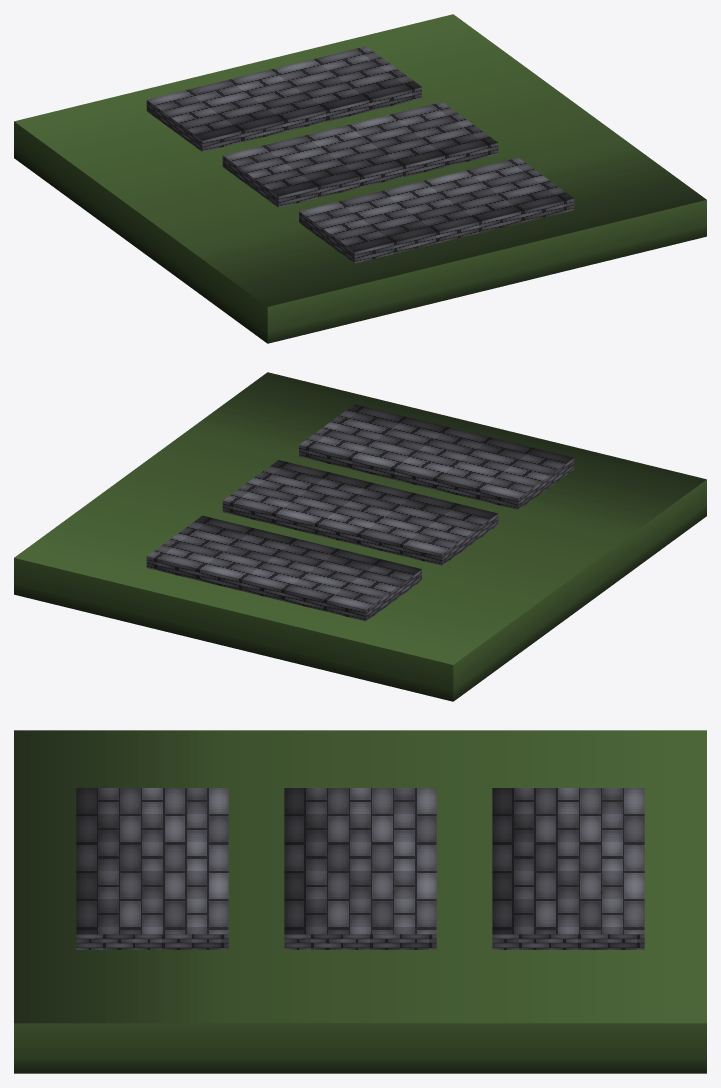
Rendered from path_straight.gltf.
3 renders of one model, top to bottom at view 1: azimuth 30°, elevation 25°; view 2: azimuth 150°, elevation 25°; view 3: azimuth 270°, elevation 25°, orthographic. The views are drawn at different scales.
Visible parts, largest first — view 1: path_straight; view 2: path_straight; view 3: path_straight.
Boxes of the visible parts, box(x1,y1,x2,y2) form: path_straight: box(14, 14, 706, 343); path_straight: box(14, 372, 706, 701); path_straight: box(14, 730, 706, 1073).
Bounding box in the file's own units: 1 × 0.105 × 1.
1 material, 1 textured.
